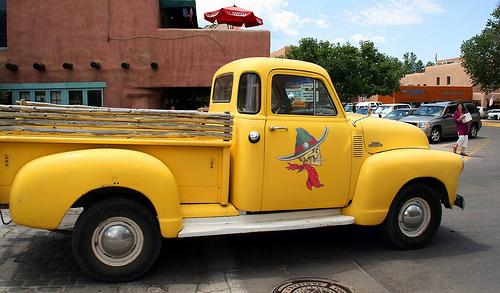truck: (0, 55, 466, 284)
